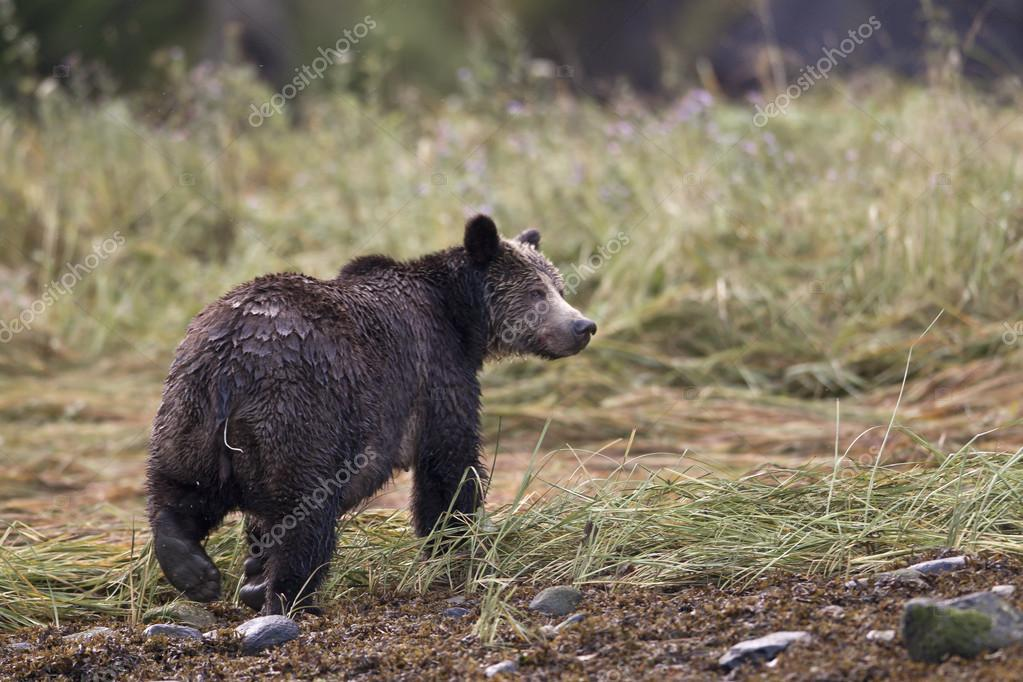bear: (142, 217, 595, 594)
